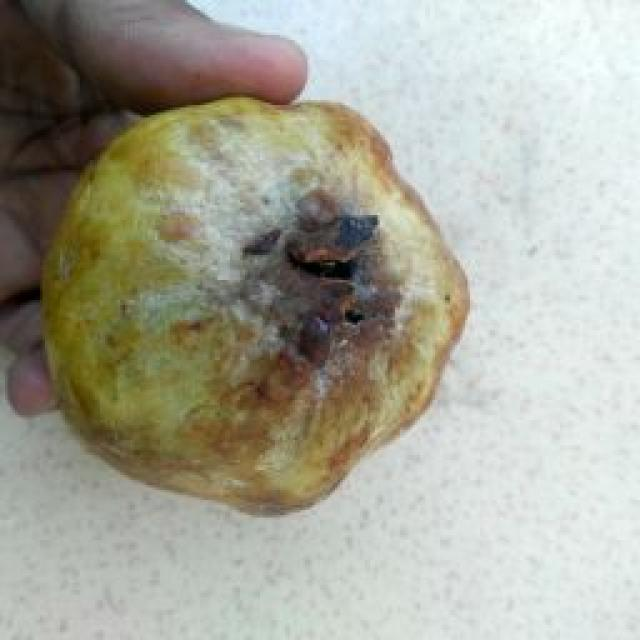Bad_Guava: (45, 98, 469, 512)
